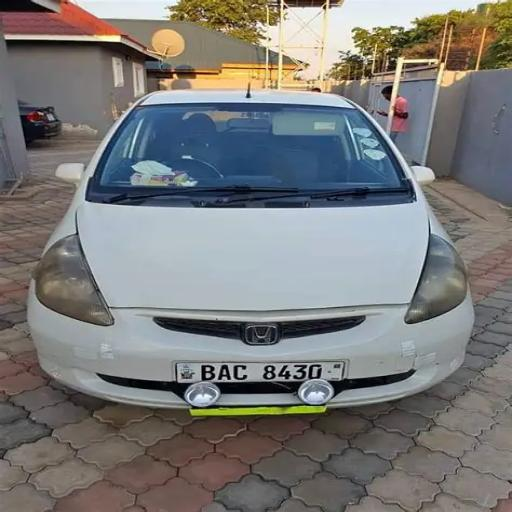number-plates: (178, 358, 329, 382)
